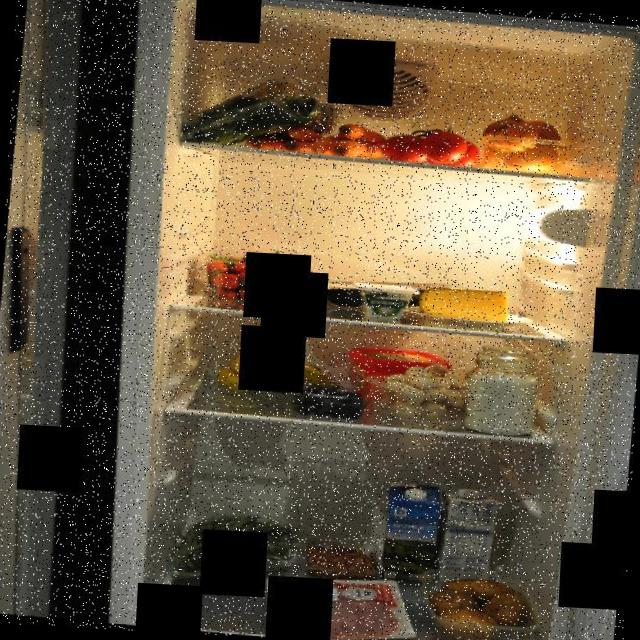Carne cerdo: (272, 577, 403, 640)
Cebolla: (480, 110, 565, 176)
Champiñones: (366, 358, 486, 422)
Gambas/Langostinos: (304, 541, 376, 584)
Leche: (433, 484, 505, 592), (378, 479, 447, 586)
Mantequilla: (343, 344, 456, 404)
Patata: (421, 569, 552, 640)
Plátano: (214, 344, 344, 402)
Queso: (416, 283, 514, 325), (352, 280, 420, 322)
Tomate: (380, 122, 486, 171)
Zanahoria: (248, 111, 388, 162)
blueberries: (291, 382, 370, 421)
green_beans: (172, 504, 309, 592)
spinach: (174, 87, 345, 154)
strawberries: (197, 246, 289, 306)
sugar: (460, 342, 545, 439)
